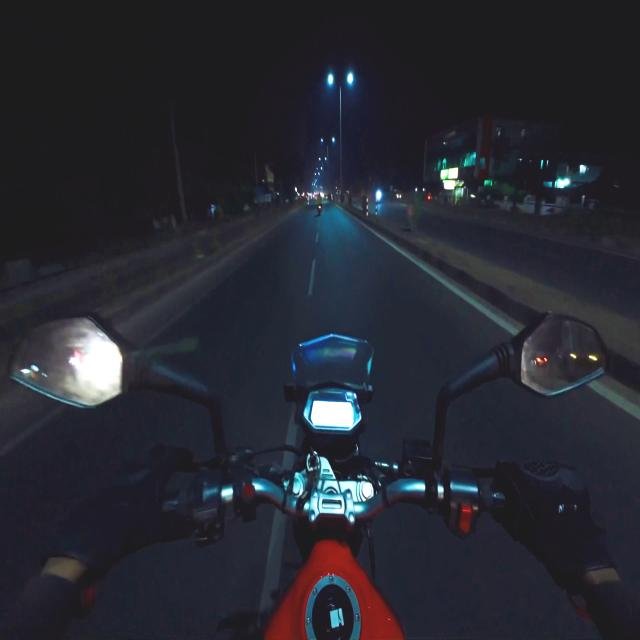motorcycle: (10, 314, 607, 639)
